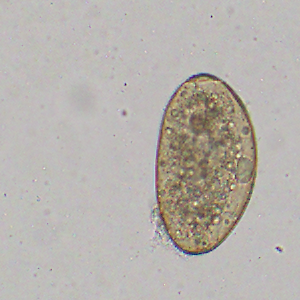Fasciola_hepatica_egg: (155, 72, 259, 256)
